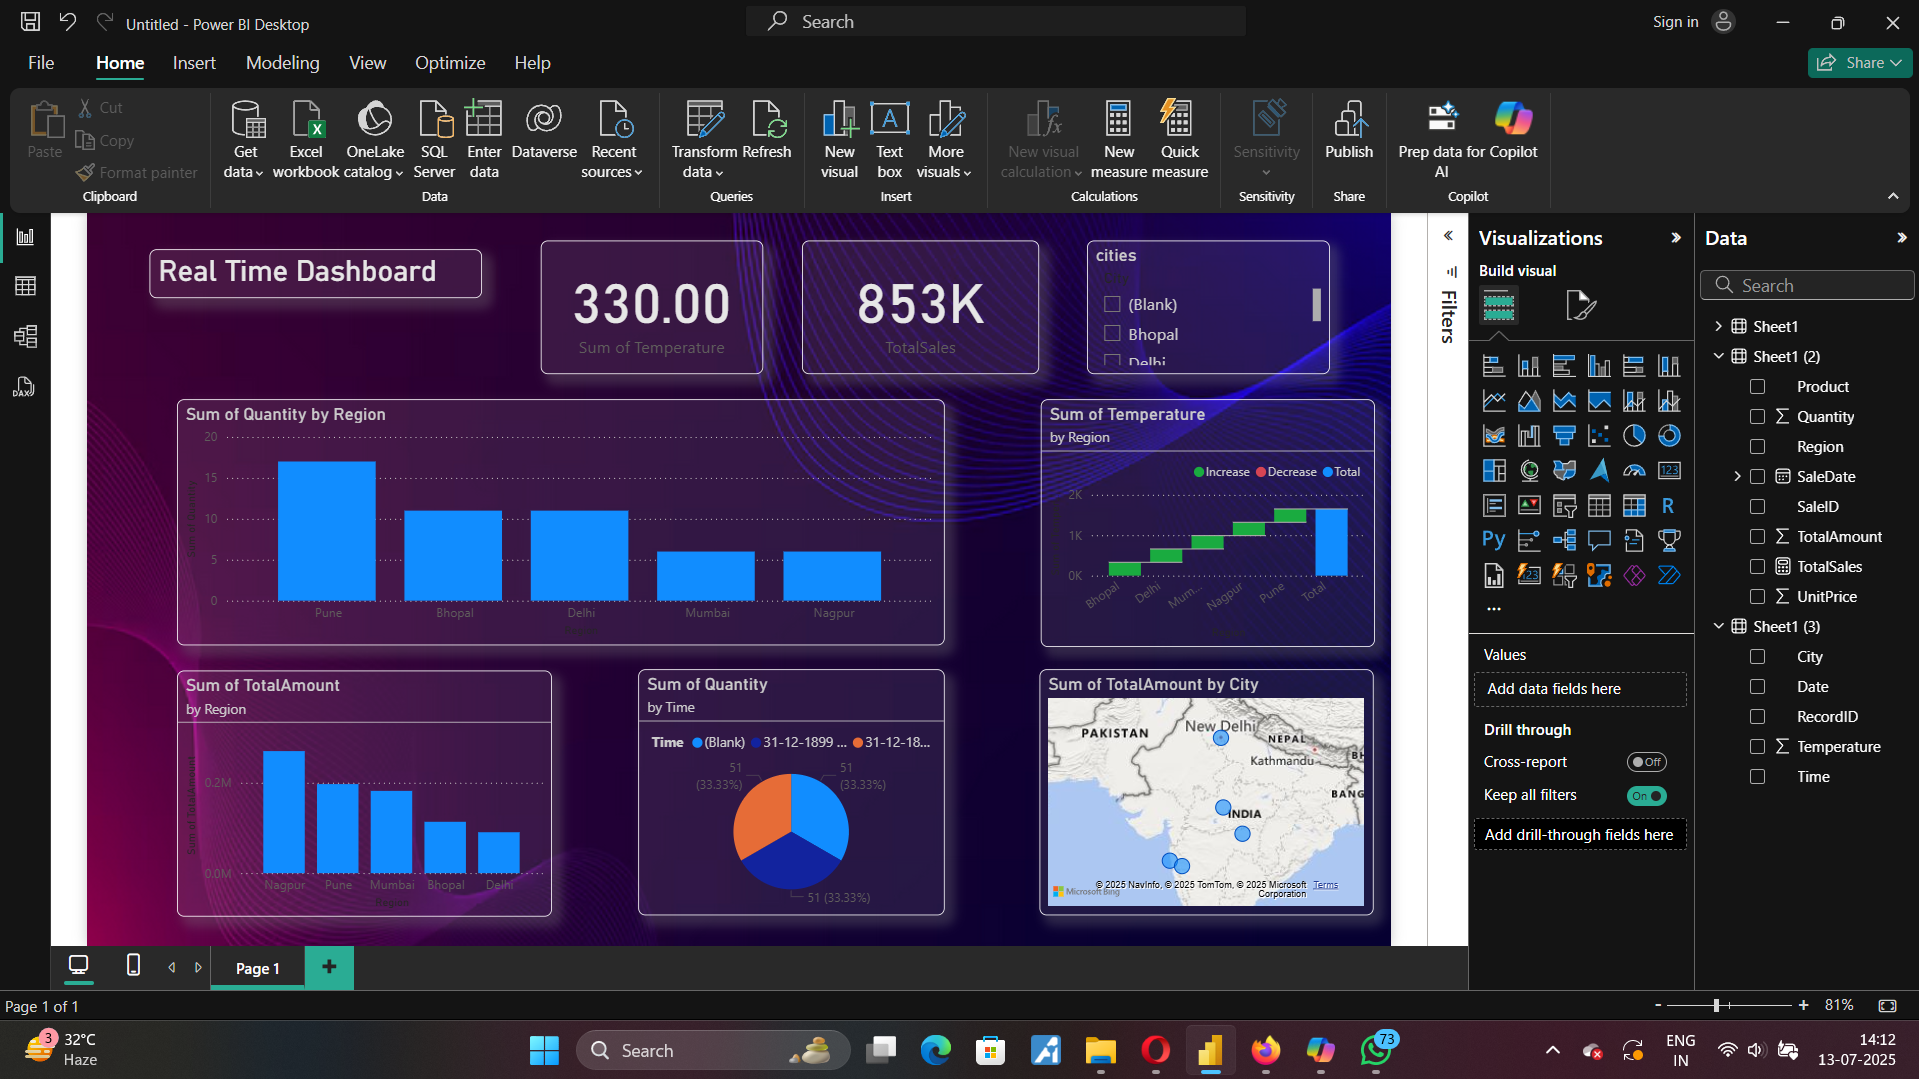

What the dashboard file says about the page in this screenshot:
{"tool":"powerbi","page":{"name":"Page 1","canvas":[1280,720],"ordinal":0},"visuals":[{"type":"map","fields":{"Category":["Sheet1 (3).City"],"Size":["Sum(Sheet1.TotalAmount)"]},"box":[935,447.9,327.6,241.7],"z":0},{"type":"pieChart","fields":{"Category":["Sheet1 (3).Time"],"Y":["Sum(Sheet1.Quantity)"]},"box":[541.1,447.9,300.6,241.7],"z":1},{"type":"clusteredColumnChart","fields":{"Category":["Sheet1.Region"],"Y":["Sum(Sheet1.TotalAmount)"]},"box":[88.3,449.1,368.1,241.7],"z":2},{"type":"waterfallChart","fields":{"Category":["Sheet1.Region"],"Y":["Sum(Sheet1 (3).Temperature)"]},"box":[936.2,182.8,327.6,242.9],"z":3},{"type":"columnChart","fields":{"Y":["Sum(Sheet1.Quantity)"],"Category":["Sheet1.Region"]},"box":[88.3,182.8,753.4,241.7],"z":4},{"type":"slicer","title":"cities","fields":{"Values":["Sheet1 (3).City"]},"box":[981.6,27,238,131.3],"z":5},{"type":"card","fields":{"Values":["Sheet1 (2).TotalSales"]},"box":[701.8,27,233.1,131.3],"z":6},{"type":"card","fields":{"Values":["Sum(Sheet1 (3).Temperature)"]},"box":[445.4,27,218.4,131.3],"z":7},{"type":"textbox","title":"Real Time Dashboard","box":[61.4,35.6,326.4,47.9],"z":8}]}

Visuals, with their boxes on the page's 1280x720 design canvas (x1, y1, x2, y2). These are canvas units, not pixel positions in the 1919x1079 screenshot, which may show the page scaled, cropped or inside an application window:
map - Sheet1 (3).City x Sum(Sheet1.TotalAmount): <region>935, 448, 1263, 690</region>
pieChart - Sheet1 (3).Time x Sum(Sheet1.Quantity): <region>541, 448, 842, 690</region>
clusteredColumnChart - Sheet1.Region x Sum(Sheet1.TotalAmount): <region>88, 449, 456, 691</region>
waterfallChart - Sheet1.Region x Sum(Sheet1 (3).Temperature): <region>936, 183, 1264, 426</region>
columnChart - Sum(Sheet1.Quantity) x Sheet1.Region: <region>88, 183, 842, 424</region>
"cities" slicer: <region>982, 27, 1220, 158</region>
card - Sheet1 (2).TotalSales: <region>702, 27, 935, 158</region>
card - Sum(Sheet1 (3).Temperature): <region>445, 27, 664, 158</region>
"Real Time Dashboard" textbox: <region>61, 36, 388, 84</region>
